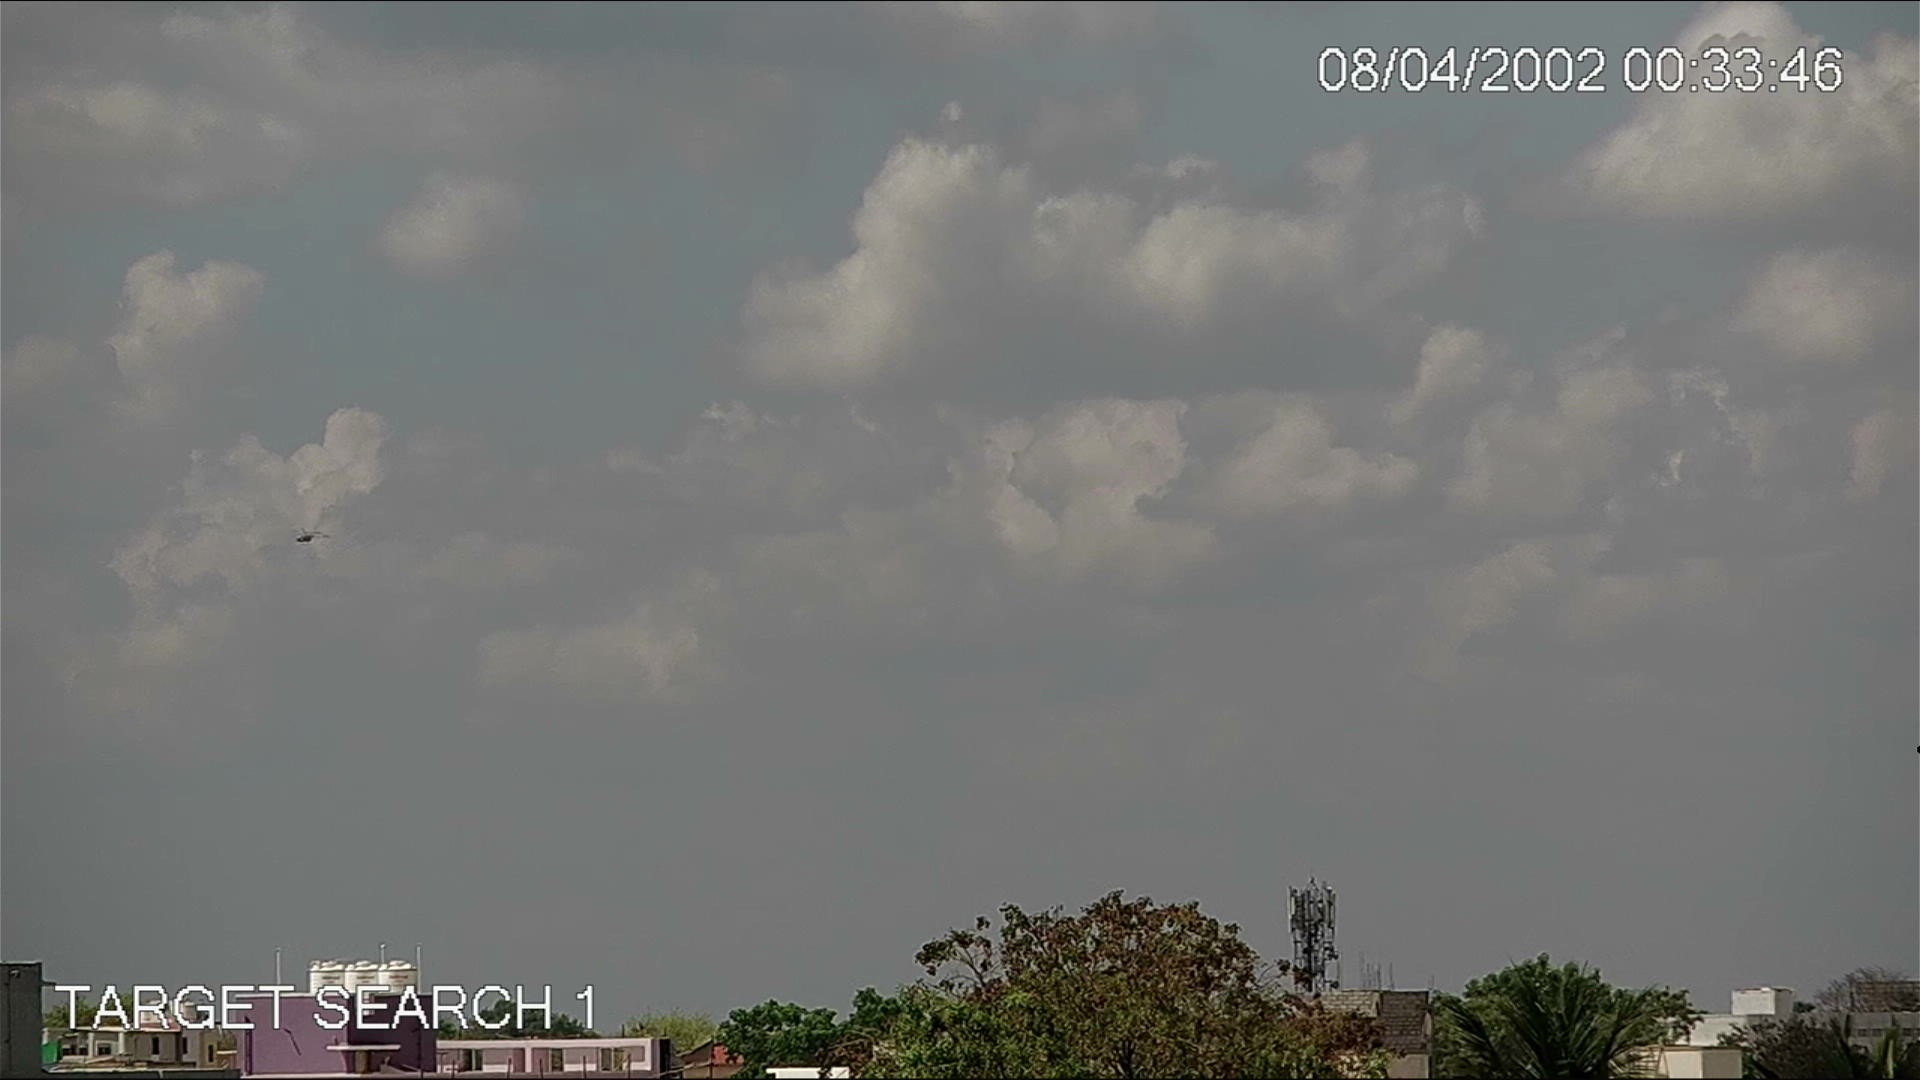SU_30: (289, 525, 335, 549)
